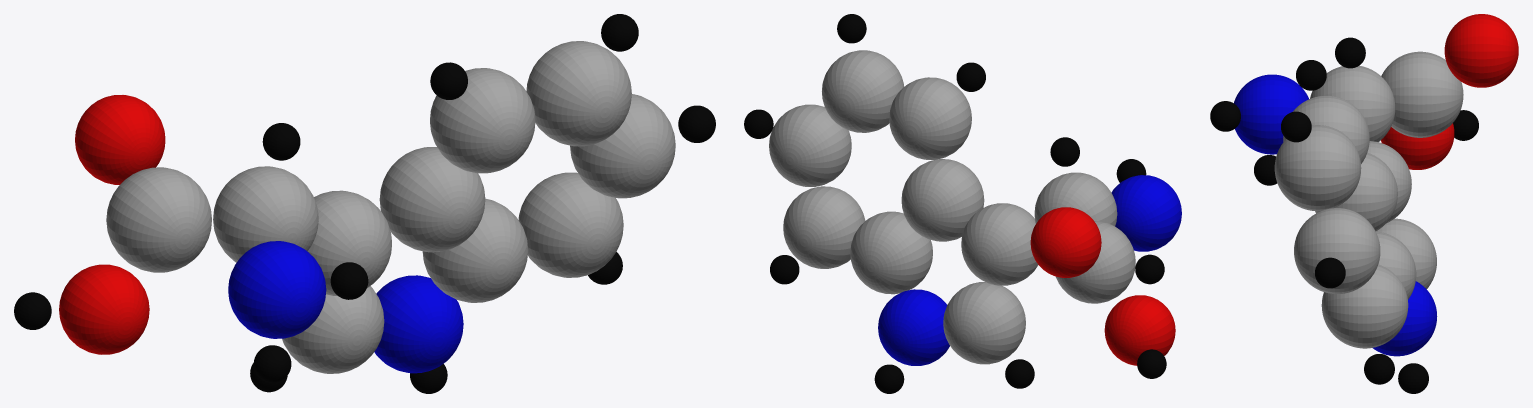
Rendered from Tryptophan.glb.
3 renders of one model, left to right at view 1: azimuth 30°, elevation 25°; view 2: azimuth 150°, elevation 25°; view 3: azimuth 270°, elevation 25°, orthographic. The views are drawn at different scales.
Parts seen in each view (by area): view 1: world; view 2: world; view 3: world.
Boxes of the visible parts, x1,y1,x2,y2 form: world: (14, 14, 715, 393); world: (744, 14, 1181, 393); world: (1210, 14, 1518, 393).
Bounding box in the file's own units: 9.41 × 5.84 × 4.99.
